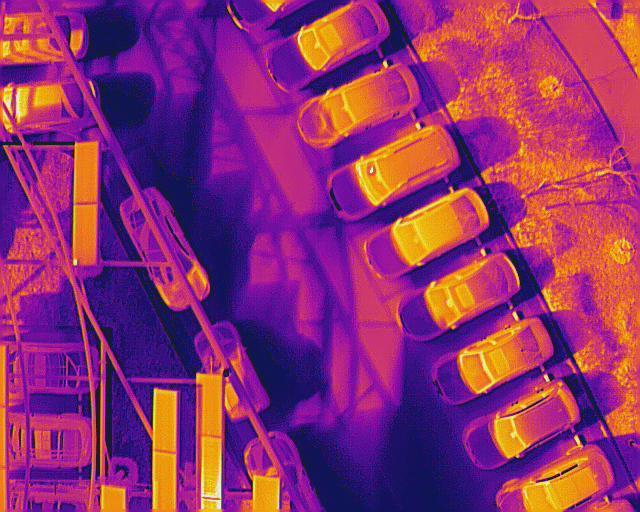Cell: (73, 204, 97, 265)
No-Anomaly: (152, 450, 176, 512), (152, 391, 176, 452), (75, 142, 98, 203), (202, 372, 223, 435)
Unclassified: (201, 434, 222, 499)
